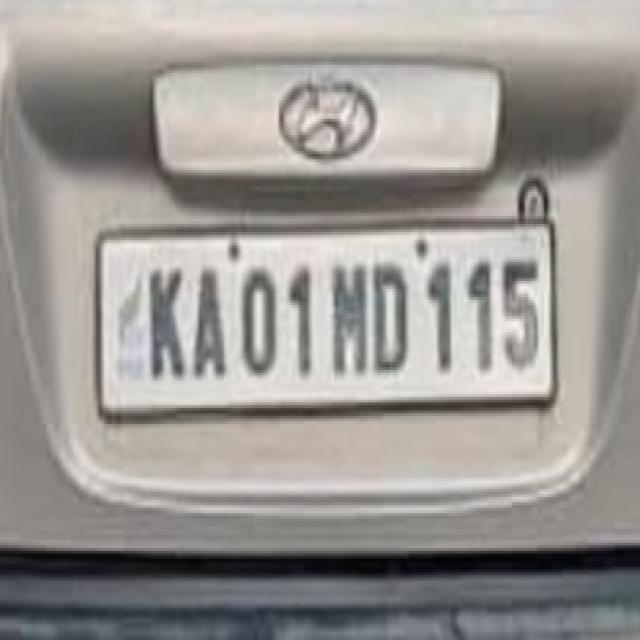0: (238, 259, 280, 382)
1: (426, 249, 460, 381), (462, 258, 495, 380), (284, 262, 316, 378)
5: (499, 258, 543, 382)
A: (186, 263, 228, 390)
D: (372, 253, 410, 377)
K: (144, 262, 186, 388)
M: (329, 253, 372, 377)
